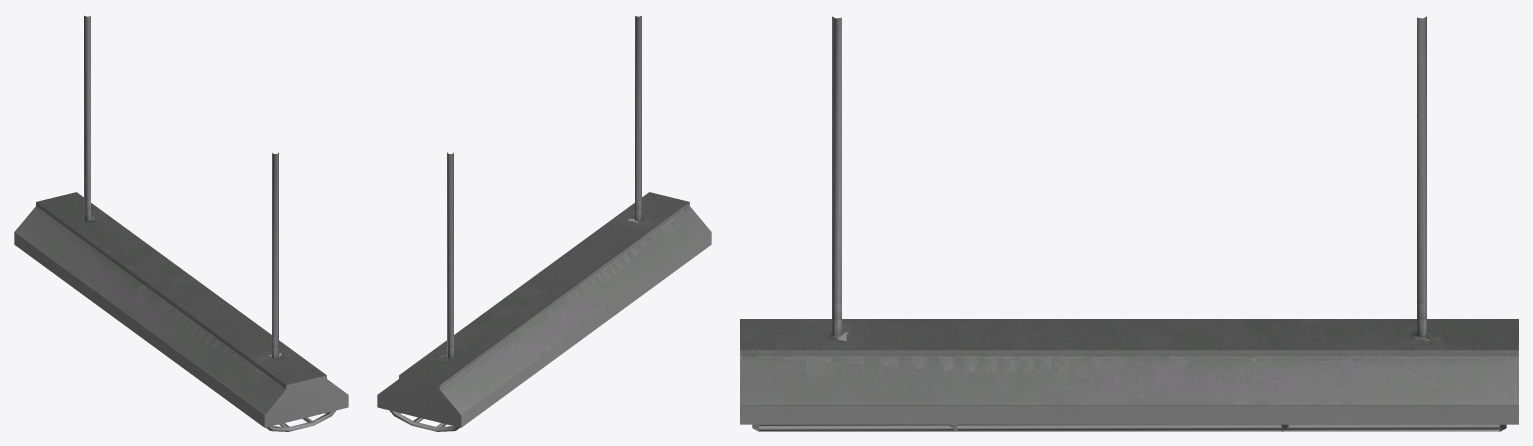
3 renders of one model, left to right at view 1: azimuth 30°, elevation 25°; view 2: azimuth 150°, elevation 25°; view 3: azimuth 270°, elevation 25°, orthographic. The views are drawn at different scales.
Parts seen in each view (by area): view 1: body0_model0_lod0_mesh0; view 2: body0_model0_lod0_mesh0; view 3: body0_model0_lod0_mesh0.
Part boxes in pixels (left/top/right/bottom): body0_model0_lod0_mesh0: left=14, top=15, right=348, bottom=431; body0_model0_lod0_mesh0: left=377, top=15, right=711, bottom=431; body0_model0_lod0_mesh0: left=740, top=16, right=1518, bottom=431.
Size of the model in its own units: 18.56 by 54.49 by 95.86.
1 material, 1 textured.
